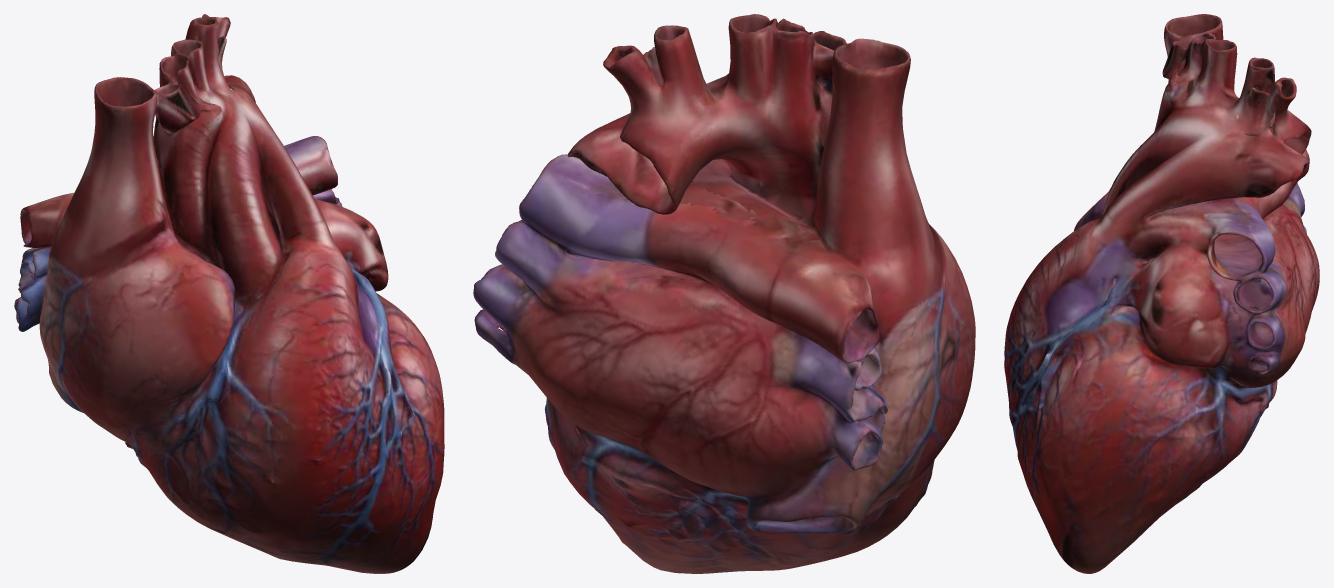
Rendered from heart-circulation.mobile.glb.
3 renders of one model, left to right at view 1: azimuth 30°, elevation 25°; view 2: azimuth 150°, elevation 25°; view 3: azimuth 270°, elevation 25°, orthographic. The views are drawn at different scales.
Visible parts, largest first — view 1: Mesh1_Mesh1.043_Material.001_0; view 2: Mesh1_Mesh1.043_Material.001_0; view 3: Mesh1_Mesh1.043_Material.001_0.
Part boxes in pixels (<box>): Mesh1_Mesh1.043_Material.001_0: <box>14,14,444,573</box>; Mesh1_Mesh1.043_Material.001_0: <box>473,14,975,573</box>; Mesh1_Mesh1.043_Material.001_0: <box>1004,14,1319,573</box>.
Bounding box in the file's own units: 43807 × 65551 × 40126.
1 material, 1 textured.
